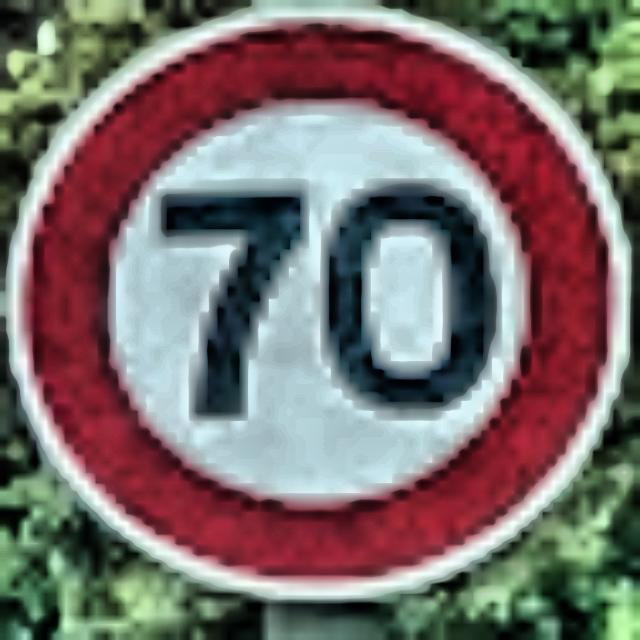speed_70: (1, 0, 630, 606)
